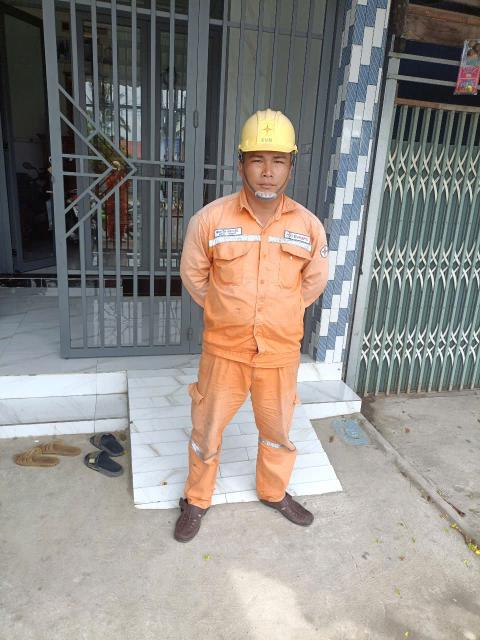helmet: (230, 100, 300, 169)
shoes: (259, 472, 335, 538), (164, 490, 214, 550)
